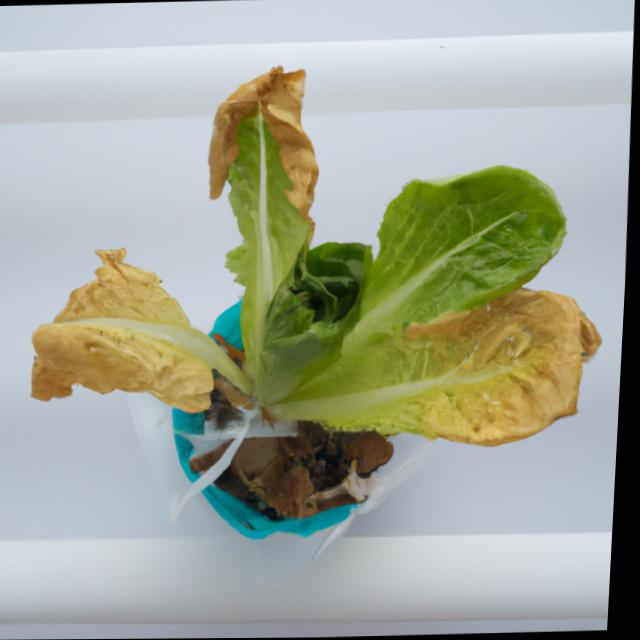-K: (5, 48, 626, 542)
